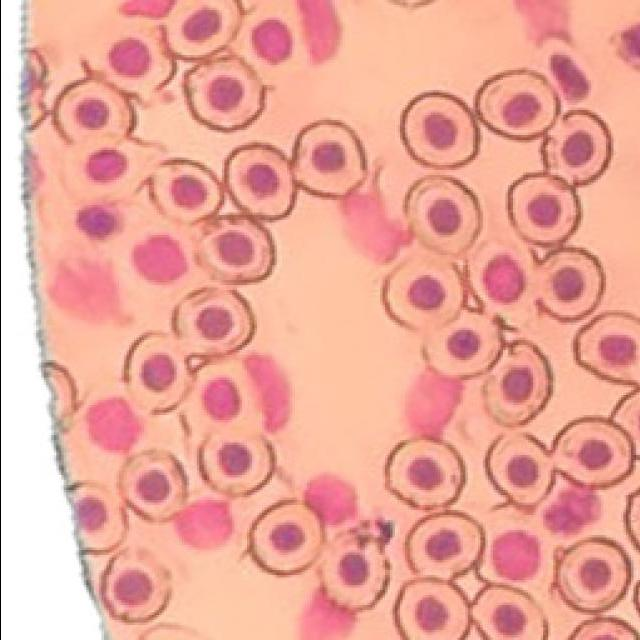RBC: (83, 25, 174, 99), (62, 138, 163, 201), (466, 241, 536, 328), (483, 341, 552, 426), (401, 92, 478, 168), (184, 359, 262, 434), (405, 178, 481, 254), (184, 59, 264, 131), (476, 70, 558, 140), (291, 121, 365, 198), (250, 500, 323, 576), (385, 439, 464, 509), (383, 261, 463, 330), (423, 310, 503, 379), (552, 419, 632, 488), (320, 531, 389, 610), (173, 289, 253, 355), (53, 79, 134, 144), (557, 539, 630, 611), (225, 145, 295, 220), (542, 110, 611, 186), (124, 332, 189, 412), (508, 174, 580, 245), (406, 514, 483, 579), (100, 550, 169, 622), (198, 218, 274, 282), (537, 249, 604, 321), (575, 312, 640, 386), (199, 432, 274, 496), (486, 435, 552, 506), (163, 0, 240, 60), (120, 451, 186, 521), (149, 160, 222, 222), (395, 580, 469, 640), (471, 586, 547, 640), (69, 484, 127, 552), (570, 619, 637, 640)
WBC: (405, 370, 462, 438), (245, 354, 290, 432), (86, 398, 142, 452), (175, 500, 232, 549), (544, 486, 600, 535), (132, 235, 187, 284), (297, 0, 340, 62), (301, 590, 354, 640), (304, 475, 356, 525), (491, 531, 540, 581), (550, 54, 589, 101), (252, 19, 291, 64), (77, 206, 117, 239), (616, 24, 640, 69)
